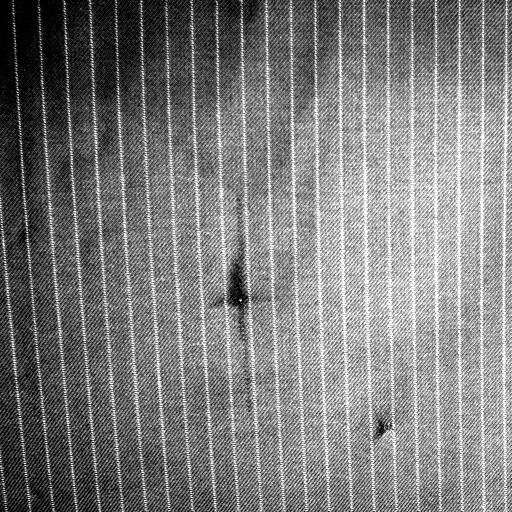fabric_hole: (224, 276, 258, 322), (372, 414, 398, 442)
